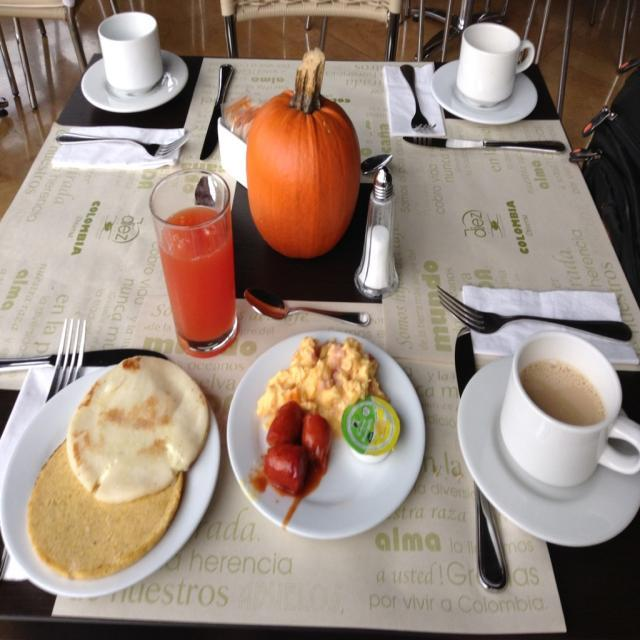Juice: (157, 184, 240, 359)
